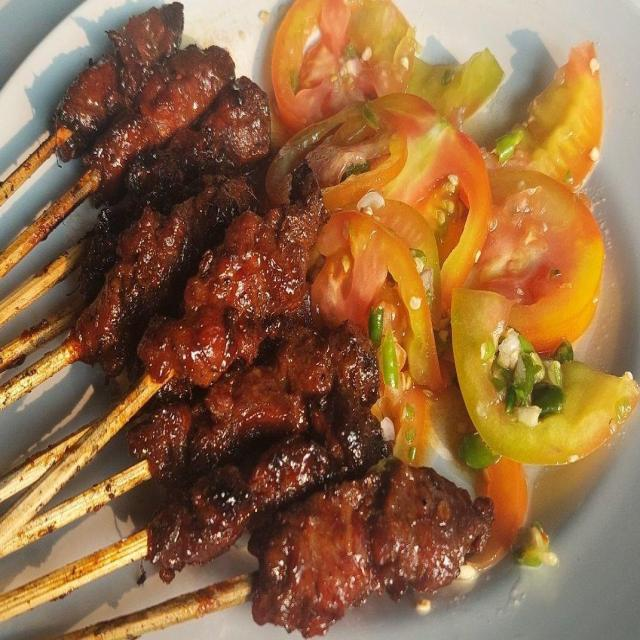Sate: (0, 3, 486, 639)
